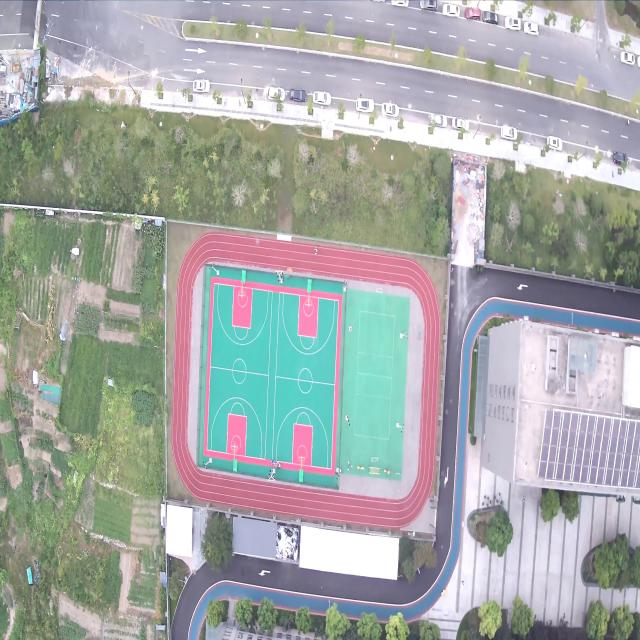UAV: (254, 236, 262, 248)
